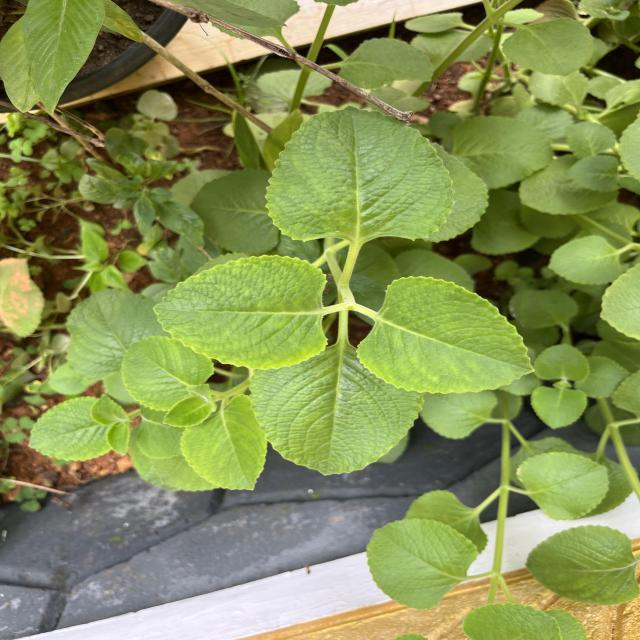Plectranthus barbatus: (263, 104, 457, 243), (356, 275, 536, 395), (152, 253, 330, 371), (248, 369, 427, 476), (364, 518, 480, 610), (64, 286, 168, 381), (524, 524, 640, 607), (179, 393, 269, 492), (120, 334, 216, 412), (452, 116, 552, 190), (514, 451, 610, 522), (500, 17, 594, 78), (28, 396, 114, 462), (545, 234, 623, 286), (529, 386, 588, 430), (534, 342, 589, 381), (162, 395, 212, 428), (90, 394, 128, 426)
